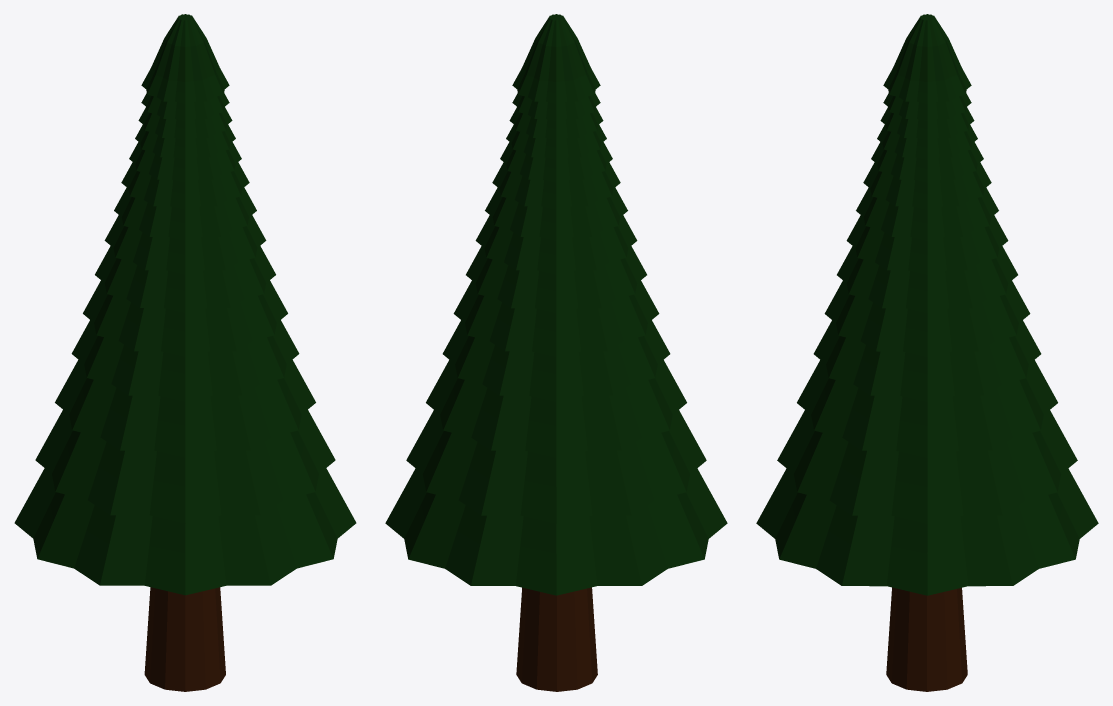
Rendered from Tree4.fbx.
The picture shows the model from 3 angles, left to right: view 1: azimuth 30°, elevation 25°; view 2: azimuth 150°, elevation 25°; view 3: azimuth 270°, elevation 25°; orthographic projection.
Parts seen in each view (by area): view 1: Cylinder.012, Cylinder.013, Cylinder.014, Cylinder.015, Cylinder.016, Elka2, Cylinder.017, Cylinder.018, Cylinder.025, Cylinder.019, Cylinder.020, Cylinder.021 (+3 smaller); view 2: Cylinder.012, Cylinder.013, Cylinder.014, Cylinder.015, Cylinder.016, Elka2, Cylinder.017, Cylinder.018, Cylinder.025, Cylinder.019, Cylinder.020, Cylinder.021 (+3 smaller); view 3: Cylinder.012, Cylinder.013, Cylinder.014, Cylinder.015, Cylinder.016, Elka2, Cylinder.017, Cylinder.018, Cylinder.025, Cylinder.019, Cylinder.020, Cylinder.021 (+3 smaller).
Part boxes in pixels (x1=…): Cylinder.012: x1=14, y1=468, x2=356, y2=595; Cylinder.013: x1=35, y1=410, x2=335, y2=523; Cylinder.014: x1=55, y1=360, x2=315, y2=457; Cylinder.015: x1=71, y1=320, x2=299, y2=401; Cylinder.016: x1=83, y1=280, x2=287, y2=356; Elka2: x1=144, y1=587, x2=225, y2=691; Cylinder.017: x1=95, y1=246, x2=275, y2=313; Cylinder.018: x1=104, y1=215, x2=266, y2=274; Cylinder.025: x1=141, y1=14, x2=229, y2=103; Cylinder.019: x1=114, y1=187, x2=256, y2=240; Cylinder.020: x1=121, y1=162, x2=249, y2=209; Cylinder.021: x1=129, y1=142, x2=241, y2=182; Cylinder.012: x1=385, y1=468, x2=727, y2=595; Cylinder.013: x1=406, y1=410, x2=706, y2=523; Cylinder.014: x1=426, y1=360, x2=686, y2=457; Cylinder.015: x1=442, y1=320, x2=670, y2=401; Cylinder.016: x1=453, y1=280, x2=659, y2=357; Elka2: x1=516, y1=587, x2=597, y2=691; Cylinder.017: x1=466, y1=246, x2=646, y2=313; Cylinder.018: x1=475, y1=215, x2=637, y2=274; Cylinder.025: x1=512, y1=14, x2=600, y2=103; Cylinder.019: x1=485, y1=187, x2=627, y2=240; Cylinder.020: x1=492, y1=162, x2=620, y2=209; Cylinder.021: x1=500, y1=142, x2=612, y2=182; Cylinder.012: x1=756, y1=468, x2=1098, y2=595; Cylinder.013: x1=777, y1=410, x2=1077, y2=523; Cylinder.014: x1=797, y1=360, x2=1057, y2=457; Cylinder.015: x1=813, y1=320, x2=1041, y2=402; Cylinder.016: x1=824, y1=280, x2=1030, y2=357; Elka2: x1=886, y1=587, x2=967, y2=691; Cylinder.017: x1=837, y1=246, x2=1017, y2=313; Cylinder.018: x1=846, y1=215, x2=1008, y2=274; Cylinder.025: x1=883, y1=14, x2=971, y2=103; Cylinder.019: x1=856, y1=187, x2=998, y2=240; Cylinder.020: x1=863, y1=162, x2=991, y2=209; Cylinder.021: x1=871, y1=142, x2=983, y2=182.
Bounding box in the file's own units: 355 × 752 × 355.
